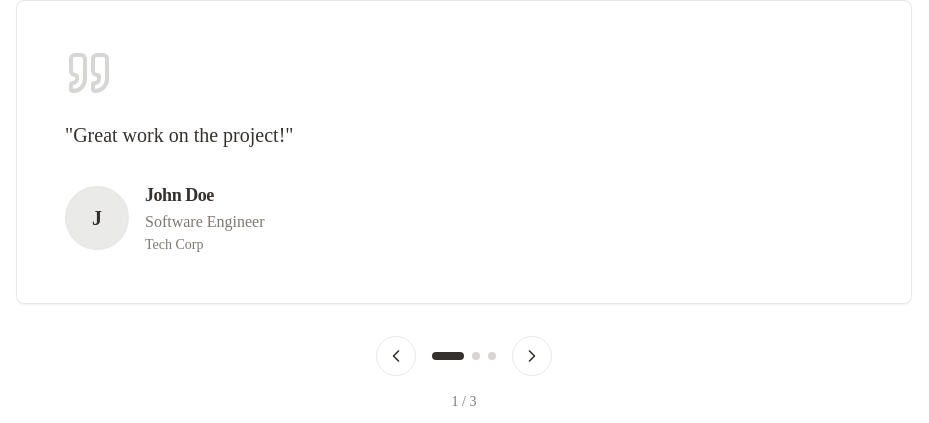
TestimonialsCarousel › should loop to last testimonial when clicking previous from first
The image size is (929, 423).
Click the button named "Previous testimonial": (396, 356) [376, 336, 416, 376]
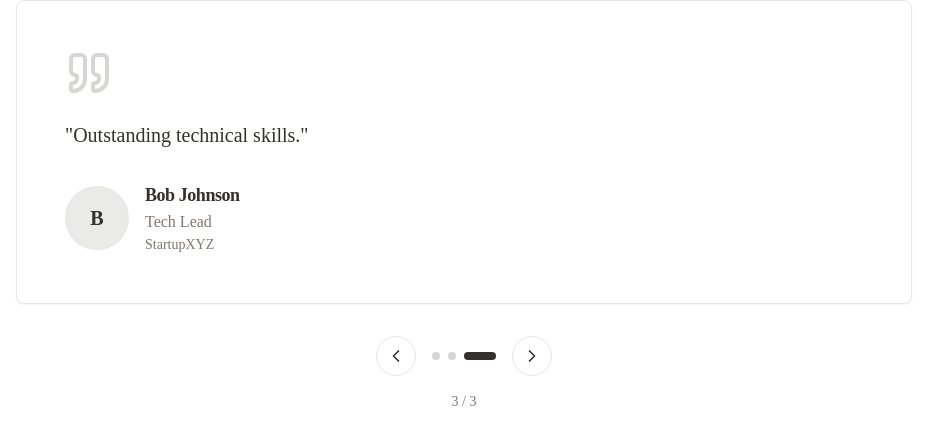
Result: the heading "Bob Johnson" is shown at [145, 181, 240, 209]
